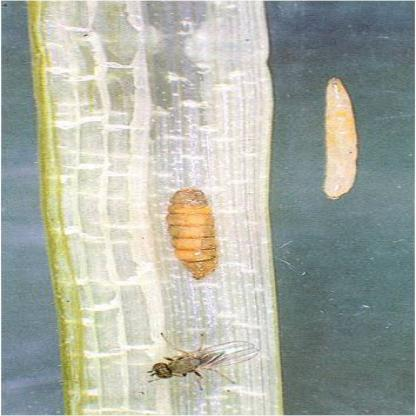whorl-maggot: (304, 71, 373, 206), (166, 180, 240, 287)
